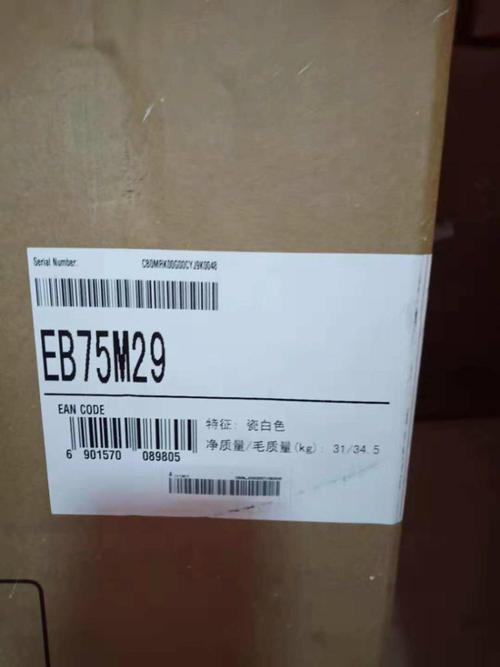plastic: (0, 0, 454, 664)
